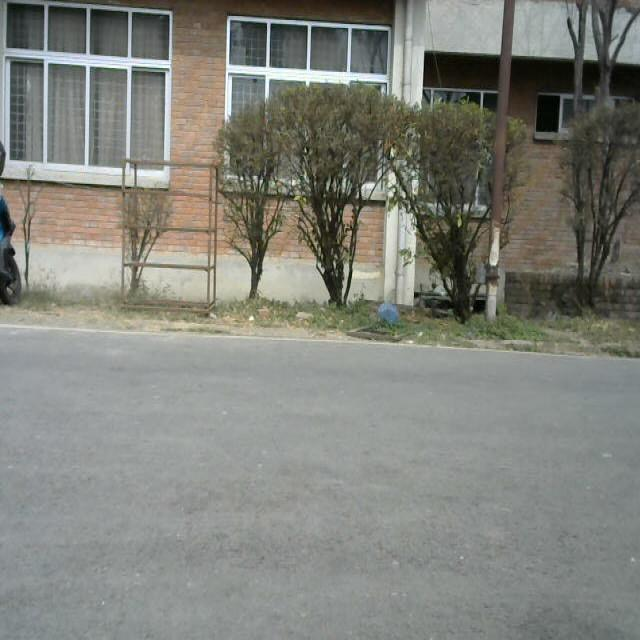Buildings: (0, 0, 419, 313)
small-obstacles: (118, 141, 228, 325)
trees: (7, 326, 640, 640), (219, 64, 403, 330), (396, 87, 500, 342), (564, 94, 640, 312)
